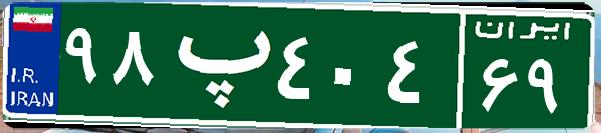0: (330, 28, 385, 110)
4: (385, 28, 445, 110), (273, 28, 330, 110)
6: (475, 38, 525, 113)
8: (110, 28, 158, 105)
9: (57, 26, 110, 107), (525, 38, 570, 115)
پ: (158, 15, 273, 115)
